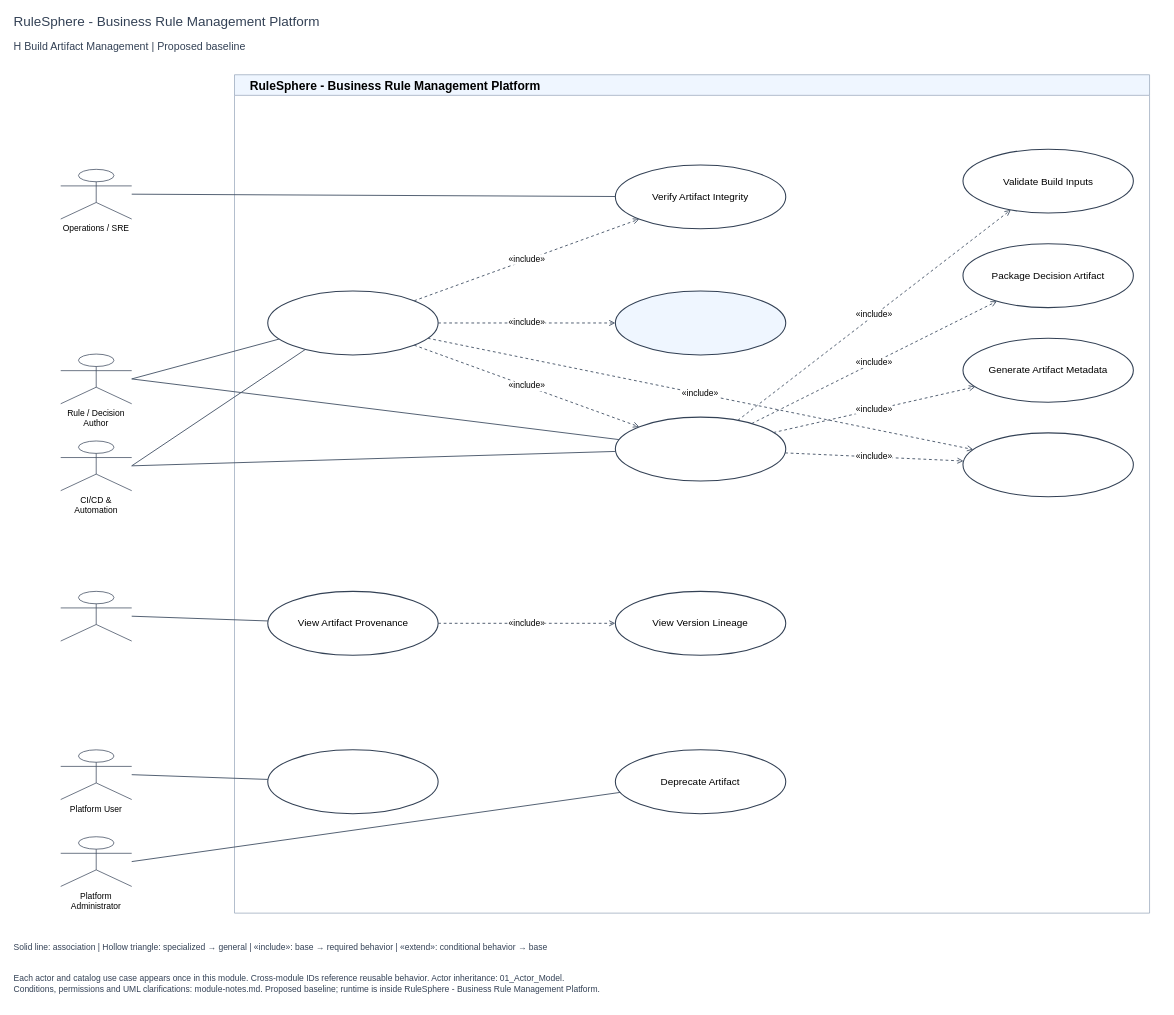
The diagram is 1174 pixels wide and 1015 high, and some of its shapes have lost their labels. Here are the shapes that lost their labels. From the top down, the box of each, then its label:
(267, 290, 438, 355): Publish Decision Artifact
(615, 290, 786, 355): Authorize Operation
(615, 416, 786, 481): Build Decision Artifact
(962, 432, 1134, 497): Validate Decision
(60, 591, 132, 641): Reviewer / Approver
(267, 749, 438, 814): View Published Artifact
